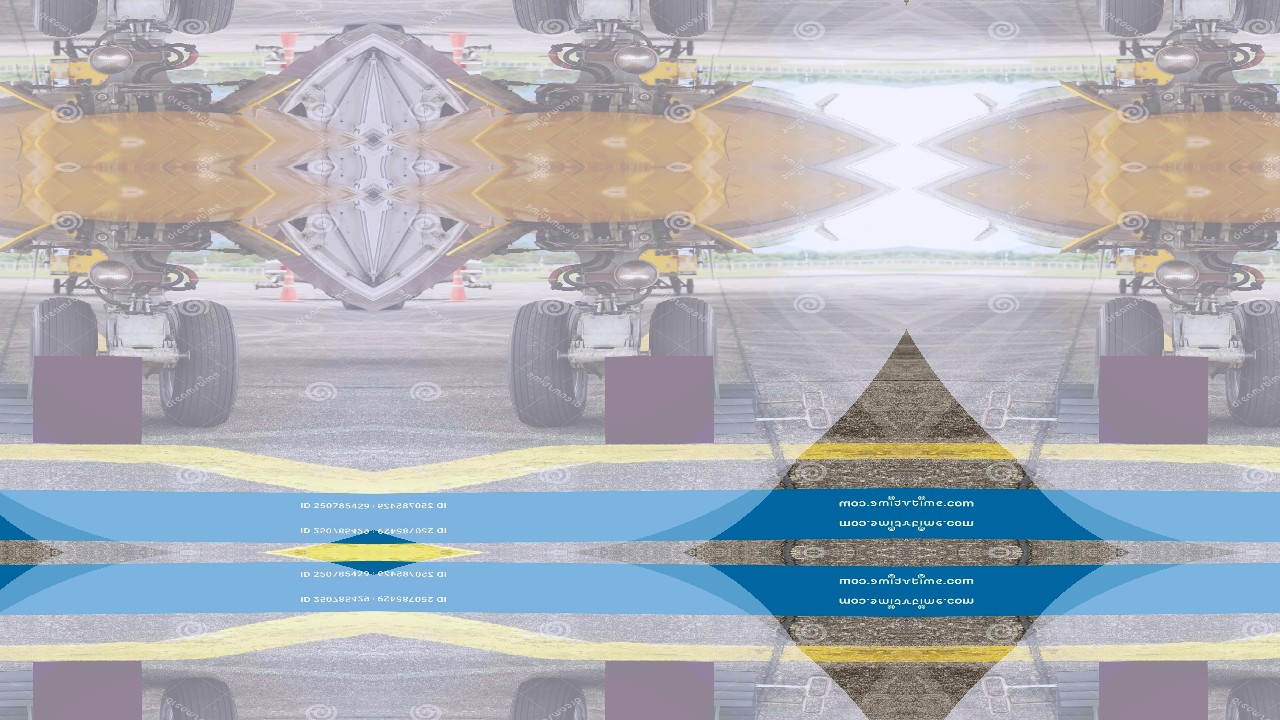chock: (1055, 399, 1211, 436), (1055, 670, 1211, 707), (603, 399, 758, 436), (603, 670, 758, 707), (0, 399, 144, 436), (0, 670, 144, 707), (622, 382, 762, 401), (1051, 382, 1191, 401), (0, 382, 125, 401), (622, 704, 762, 720), (1051, 704, 1191, 720), (0, 704, 125, 720)
wheel: (156, 300, 237, 425), (510, 300, 590, 425), (1095, 296, 1167, 399), (29, 296, 100, 399), (647, 296, 718, 399), (1223, 300, 1280, 425), (156, 680, 237, 720), (510, 680, 590, 720), (156, 0, 237, 34), (1095, 0, 1167, 38), (510, 0, 590, 34), (29, 0, 100, 38), (647, 0, 718, 38), (1223, 680, 1280, 720), (1223, 0, 1280, 34), (1095, 706, 1167, 720), (29, 706, 100, 720), (647, 706, 718, 720)
